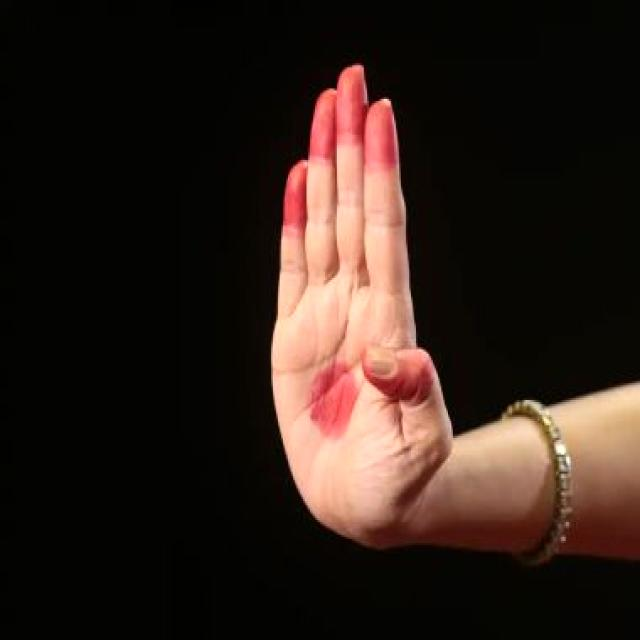Pataka: (239, 40, 477, 565)
